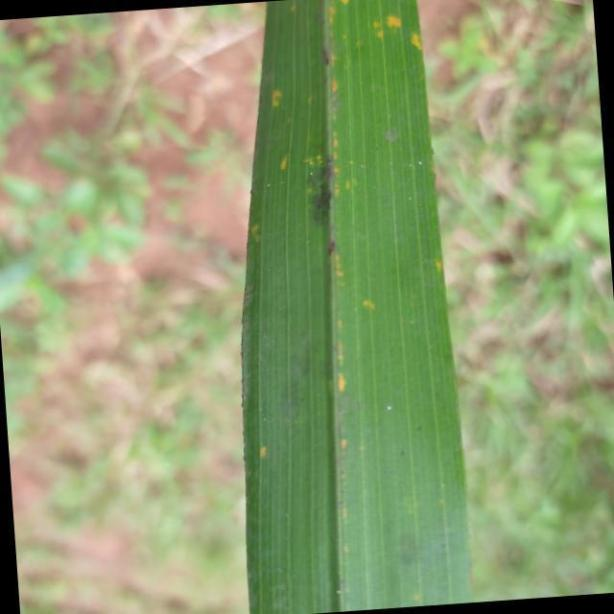Kalium: (242, 0, 482, 614)
